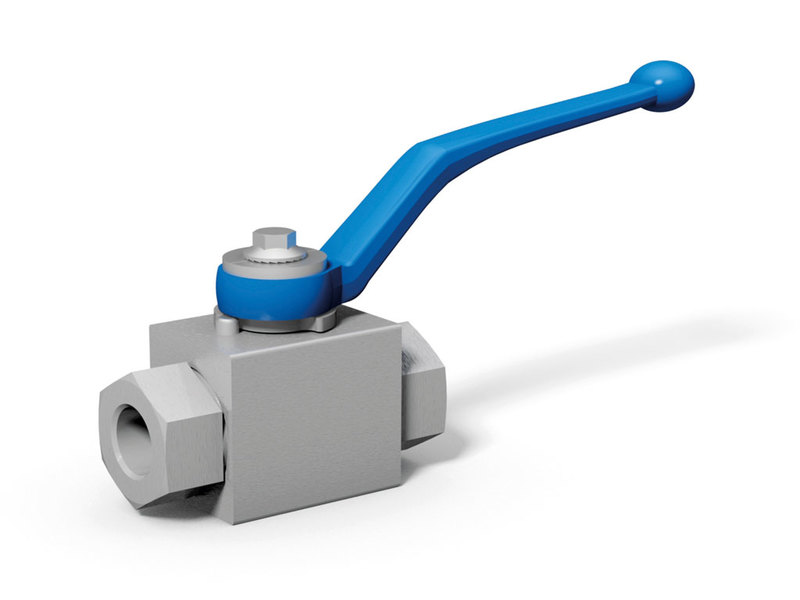valve: (48, 15, 725, 564)
